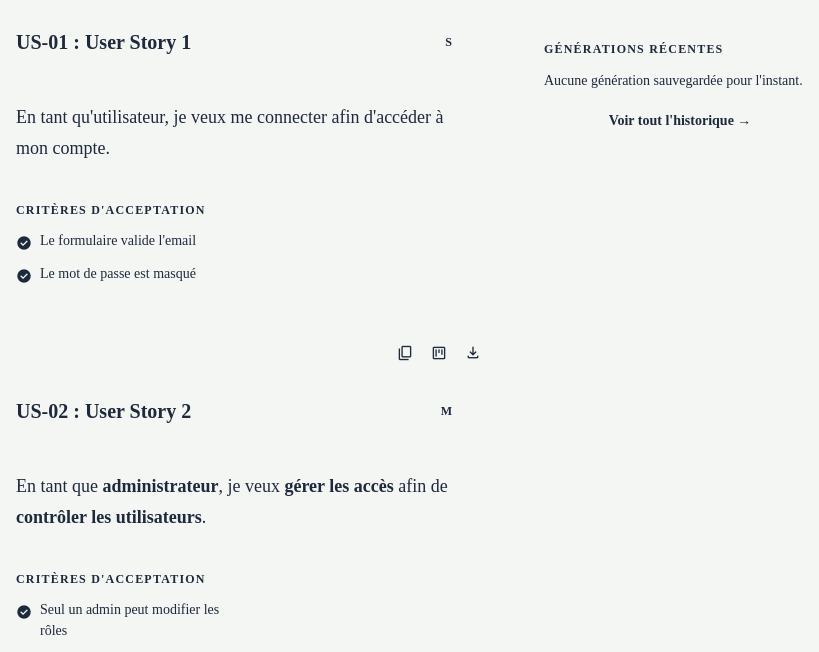
Results — boutons d'export par story › le clic sur le bouton Trello d'une story affiche le message dans la bande d'actions du haut, à gauche des icônes (pas sous la carte)
(page scrolled)
Click the 2nd button named "Exporter cette user story vers Trello".
click(439, 353)  # box x1=424 y1=336 x2=454 y2=370
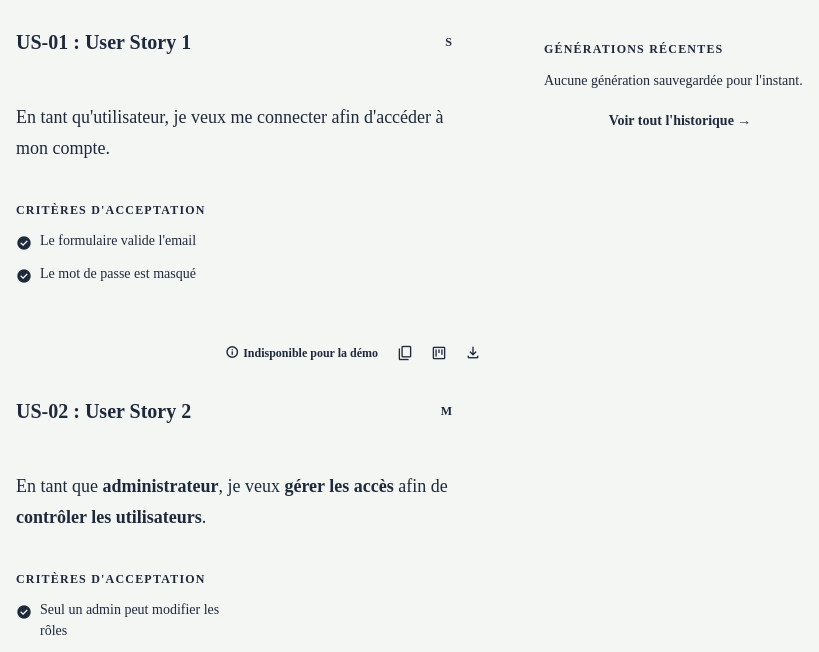
Now the text "Indisponible pour la démo" is shown once, box x1=243 y1=345 x2=378 y2=362
